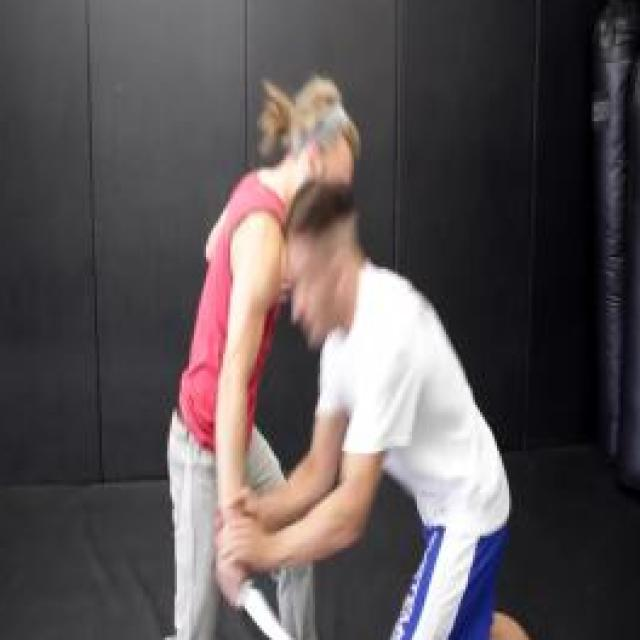knife: (211, 552, 300, 640)
